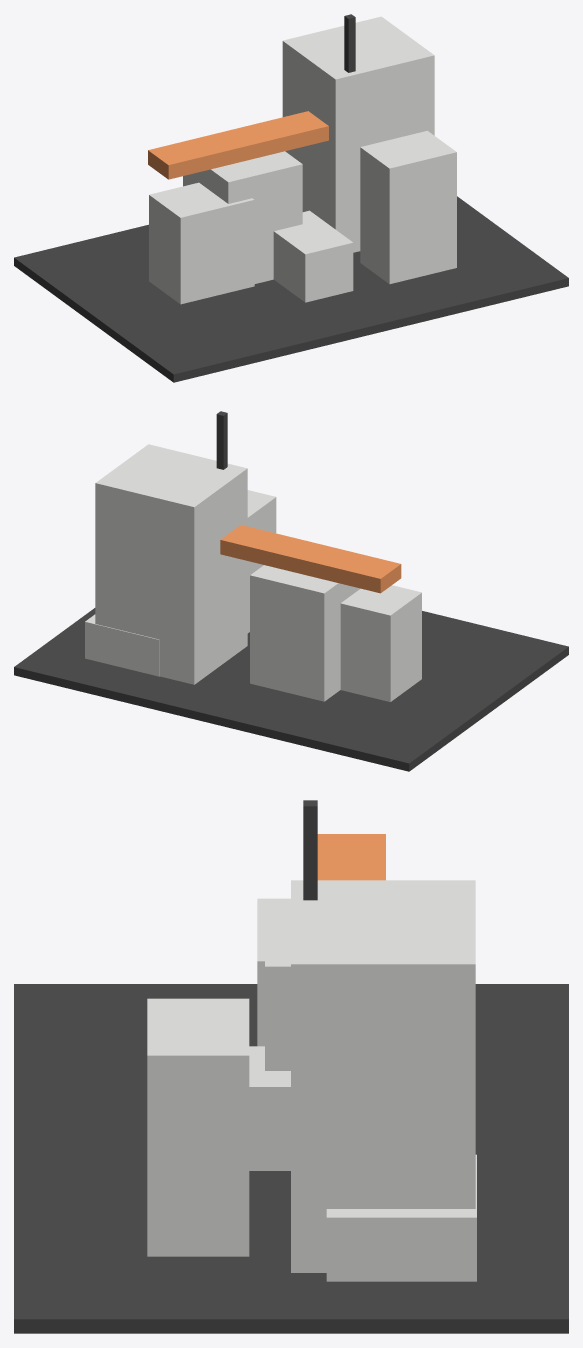
The picture shows the model from 3 angles, top to bottom: view 1: azimuth 30°, elevation 25°; view 2: azimuth 150°, elevation 25°; view 3: azimuth 270°, elevation 25°; orthographic projection. The views are drawn at different scales.
Parts seen in each view (by area): view 1: placeholder-massing; view 2: placeholder-massing; view 3: placeholder-massing.
Part boxes in pixels (<box>): placeholder-massing: <box>14,14,568,382</box>; placeholder-massing: <box>14,411,568,771</box>; placeholder-massing: <box>14,800,568,1333</box>.
Bounding box in the file's own units: 10 × 5.8 × 7.
